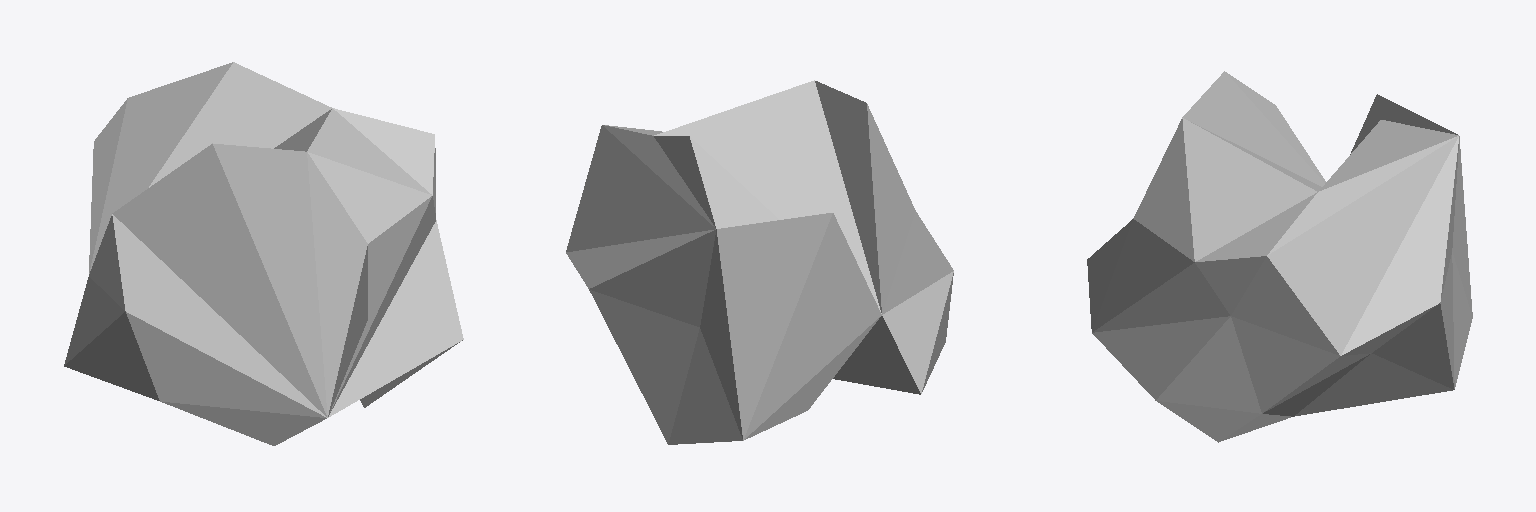
The model's file is Roca1.obj.
3 views of the same model, side by side, from view 1: azimuth 30°, elevation 25°; view 2: azimuth 150°, elevation 25°; view 3: azimuth 270°, elevation 25° (orthographic).
Parts seen in each view (by area): view 1: Icosphere; view 2: Icosphere; view 3: Icosphere.
Boxes of the visible parts, x1,y1,x2,y2 form: Icosphere: [64, 62, 463, 445]; Icosphere: [566, 80, 953, 444]; Icosphere: [1087, 71, 1472, 442].
Bounding box in the file's own units: 2.05 × 1.71 × 1.99.